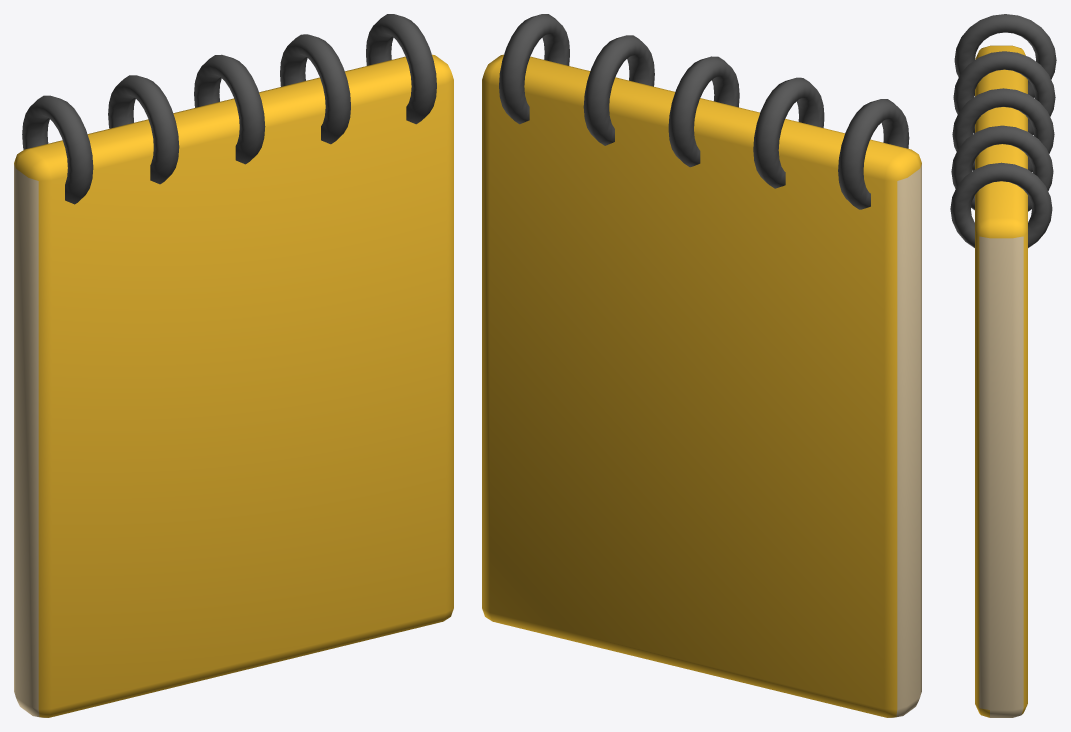
The model's file is eureka.glb.
The picture shows the model from 3 angles, left to right: view 1: azimuth 30°, elevation 25°; view 2: azimuth 150°, elevation 25°; view 3: azimuth 270°, elevation 25°; orthographic projection. The views are drawn at different scales.
Parts seen in each view (by area): view 1: Cube.001; view 2: Cube.001; view 3: Cube.001.
Part boxes in pixels (x1,y1,x2,y2): Cube.001: (14,14,453,717); Cube.001: (482,14,921,717); Cube.001: (950,14,1056,717).
Bounding box in the file's own units: 1.59 × 2.17 × 0.3854.
